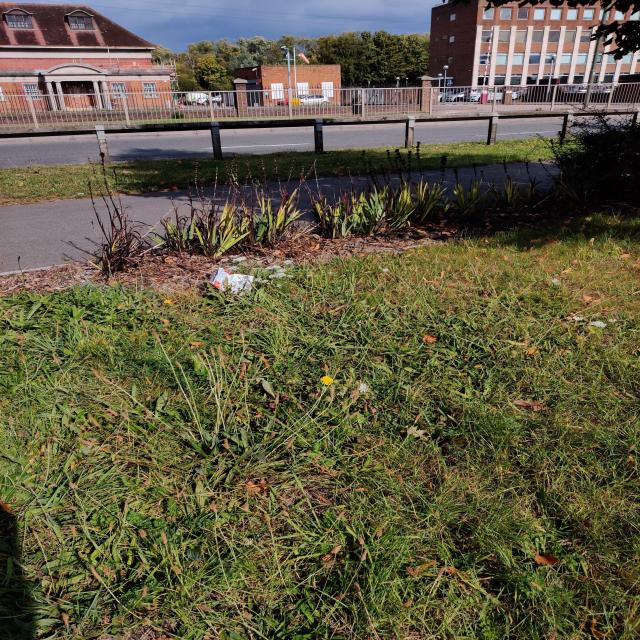litter: (209, 268, 255, 296)
